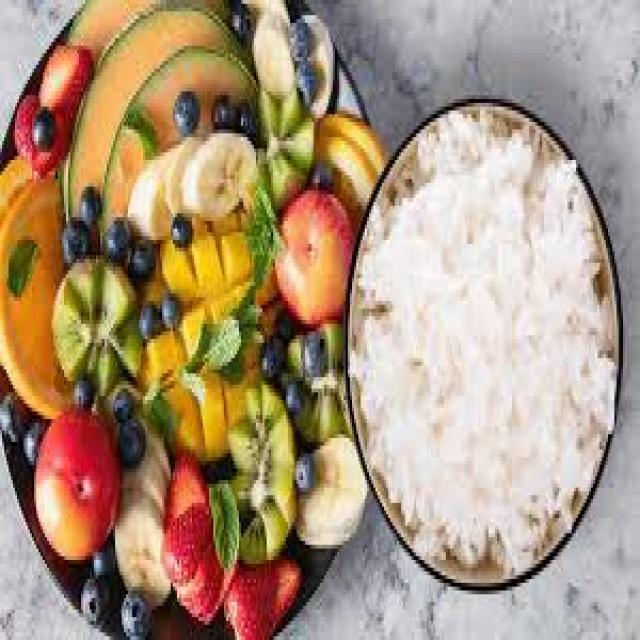Fruits: (0, 0, 380, 636), (139, 194, 275, 457)
Green veg: (66, 0, 256, 217)
Rice: (348, 103, 617, 583)
